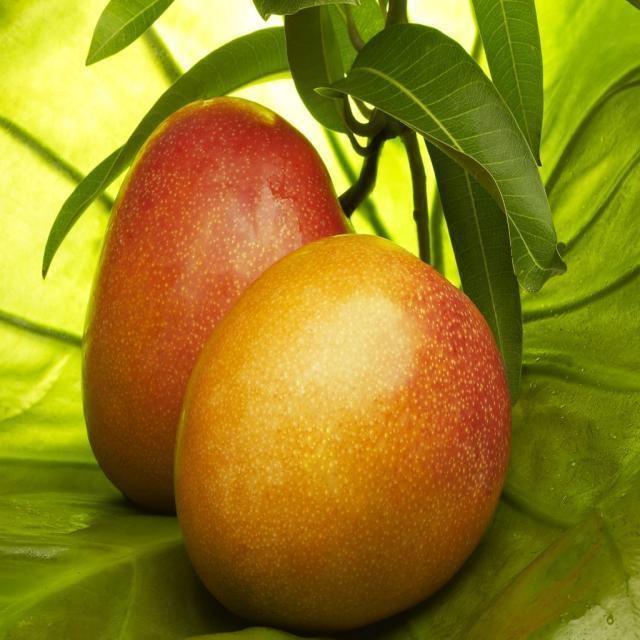Mango: (173, 233, 504, 626), (82, 101, 356, 514)
